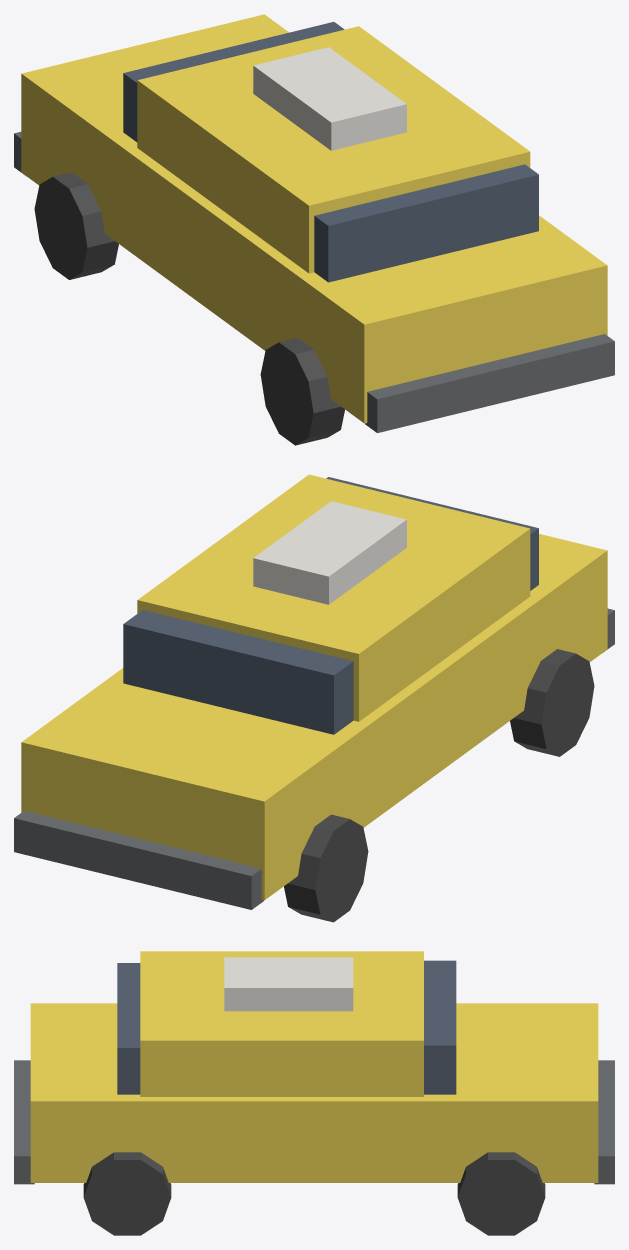
The model's file is Car_Taxi.glb.
3 renders of one model, top to bottom at view 1: azimuth 30°, elevation 25°; view 2: azimuth 150°, elevation 25°; view 3: azimuth 270°, elevation 25°, orthographic. The views are drawn at different scales.
Parts seen in each view (by area): view 1: Body, Wheel_FL, Wheel_RL; view 2: Body, Wheel_RL, Wheel_FL; view 3: Body, Wheel_FR, Wheel_RR.
Part boxes in pixels (x1,y1,x2,y2): Body: (14,14,614,432); Wheel_FL: (34,172,118,279); Wheel_RL: (260,337,344,445); Body: (14,474,614,909); Wheel_RL: (510,649,594,756); Wheel_FL: (284,814,368,922); Body: (14,951,614,1184); Wheel_FR: (457,1152,545,1235); Wheel_RR: (83,1152,171,1235).
Size of the model in its own units: 2.08 by 1.76 by 4.66.
